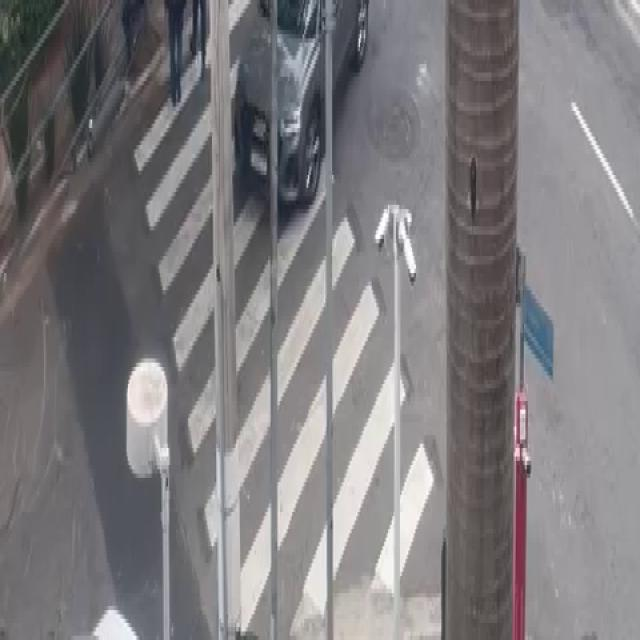car: (237, 0, 381, 200)
